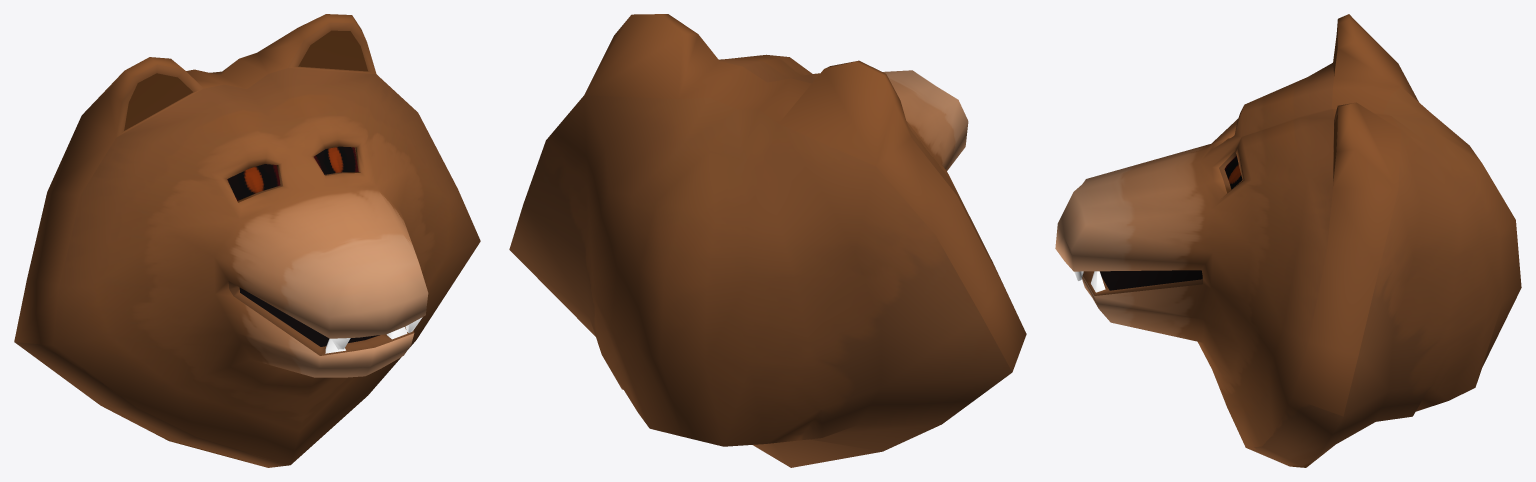
The model's file is beer.fbx.
3 views of the same model, side by side, from view 1: azimuth 30°, elevation 25°; view 2: azimuth 150°, elevation 25°; view 3: azimuth 270°, elevation 25° (orthographic). The views are drawn at different scales.
Parts seen in each view (by area): view 1: 熊; view 2: 熊; view 3: 熊.
Boxes of the visible parts, box(x1,y1,x2,y2) form: 熊: box(14, 14, 480, 467); 熊: box(509, 14, 1026, 467); 熊: box(1055, 14, 1521, 467).
Size of the model in its own units: 2.69 by 2.32 by 2.42.
2 materials, 2 textured.
